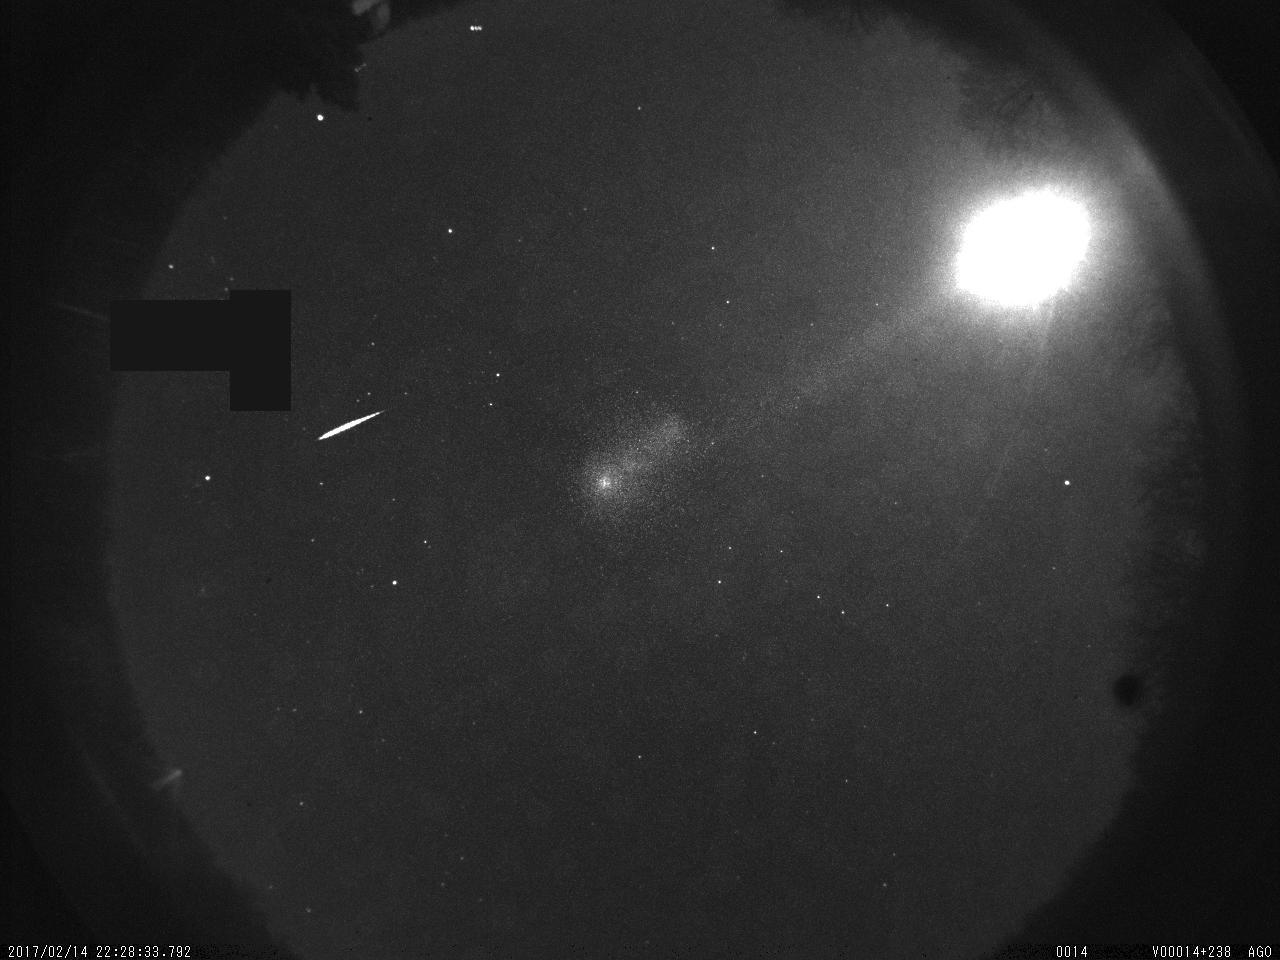meteor: (311, 408, 402, 441)
